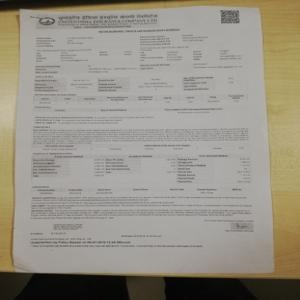image: (36, 12, 162, 29)
table: (34, 74, 252, 104), (31, 155, 252, 184)
text: (33, 30, 251, 70), (26, 193, 252, 221), (36, 127, 249, 145)
